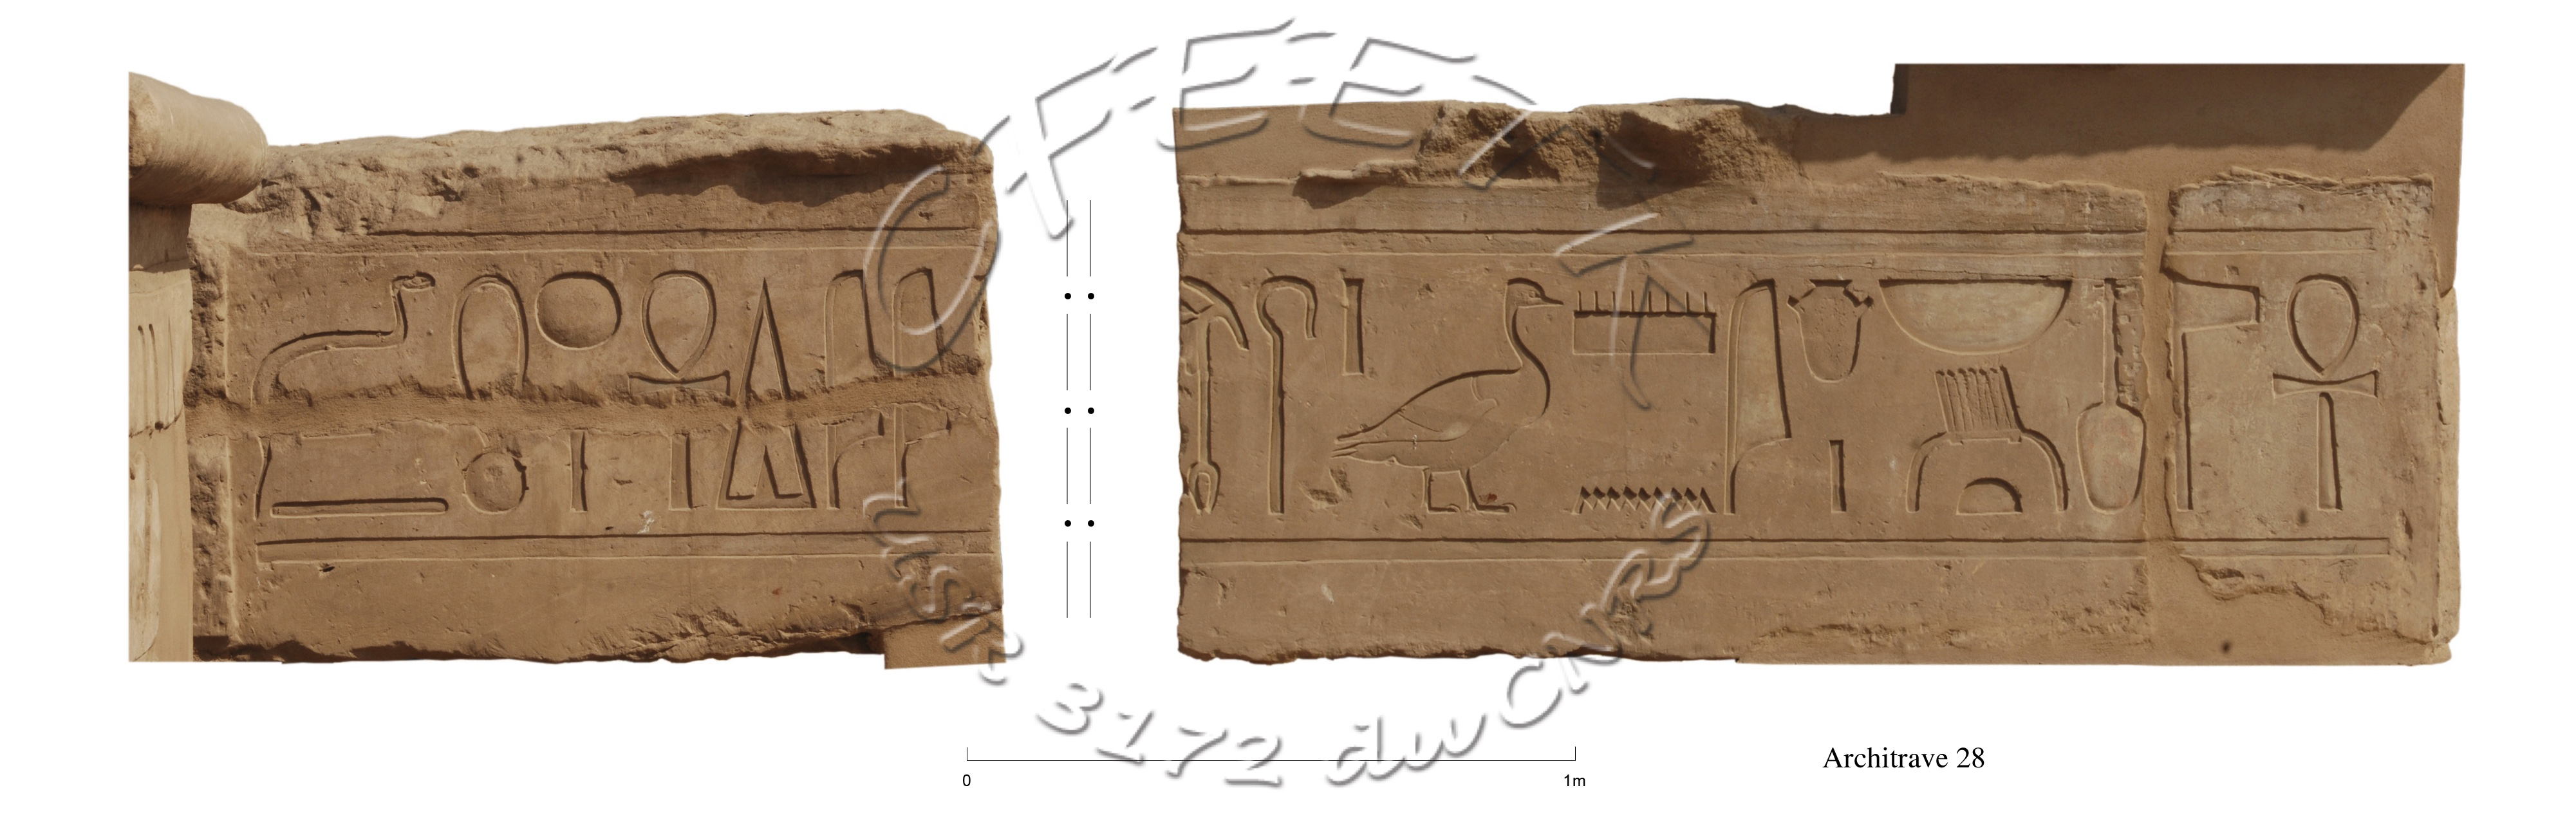F35: (2045, 258, 2172, 541)
I10: (228, 248, 449, 534)
M17: (1704, 271, 1799, 539), (881, 255, 958, 542), (810, 263, 892, 521)
N35: (1567, 457, 1723, 549)
V30: (1853, 245, 2080, 390)
X8: (697, 276, 825, 529)
